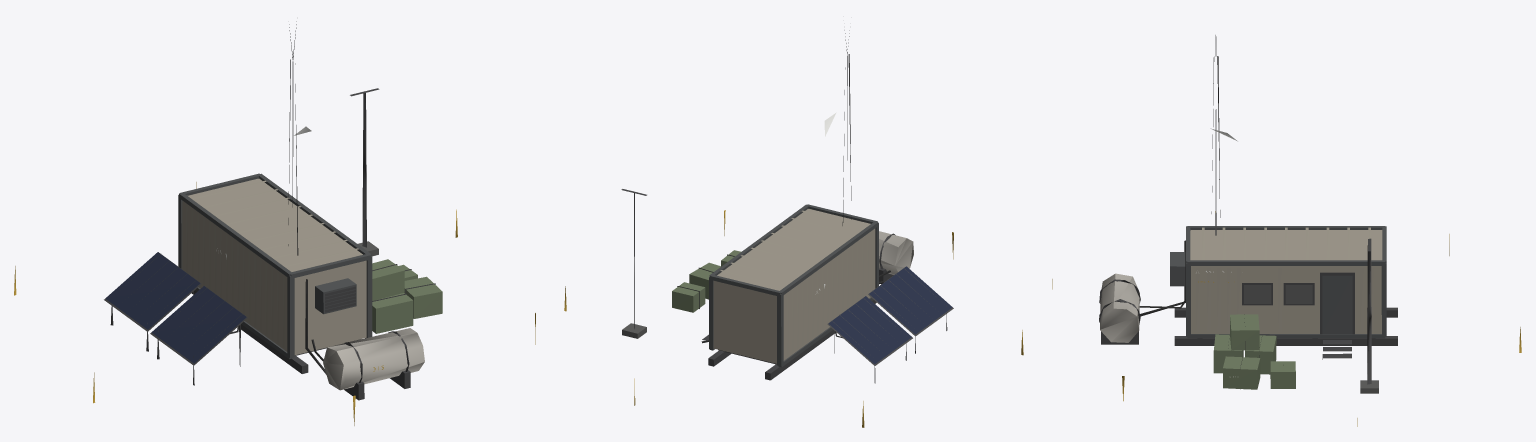
Rendered from AussenstelleFern.2caf0f5422.glb.
3 renders of one model, left to right at view 1: azimuth 30°, elevation 25°; view 2: azimuth 150°, elevation 25°; view 3: azimuth 270°, elevation 25°, orthographic. The views are drawn at different scales.
Visible parts, largest first — view 1: Aufbau__lack; view 2: Aufbau__lack; view 3: Aufbau__lack.
Part boxes in pixels (x1,y1,x2,y2): Aufbau__lack: (14,21,535,425); Aufbau__lack: (564,30,1023,427); Aufbau__lack: (1052,35,1521,426).
Size of the model in its own units: 14.42 by 10.56 by 14.68.
